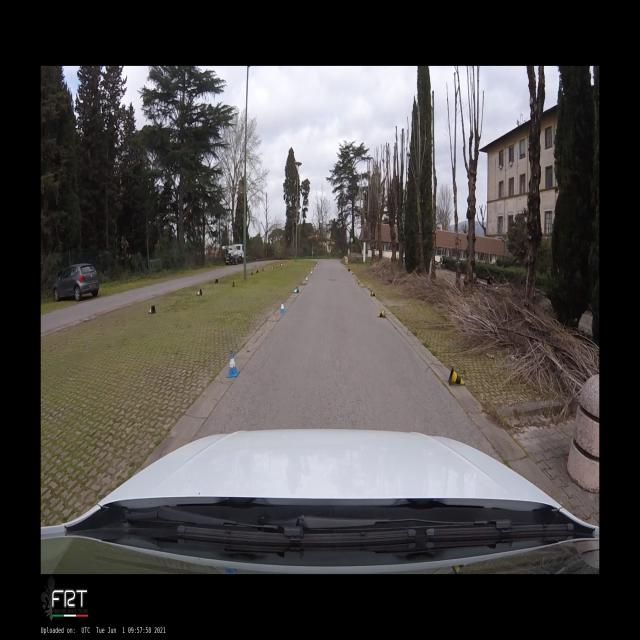blue_cone: (226, 351, 240, 377), (280, 300, 285, 313), (293, 287, 299, 293), (306, 276, 308, 280), (311, 267, 313, 270), (311, 270, 312, 274)
unknown_cone: (148, 305, 156, 314), (196, 289, 202, 295), (232, 279, 235, 287), (214, 279, 218, 283), (251, 271, 253, 275), (256, 269, 258, 273), (348, 269, 349, 272)
yellow_cone: (448, 366, 465, 386), (377, 309, 385, 318), (370, 290, 376, 296), (358, 280, 360, 284), (352, 272, 353, 276)
